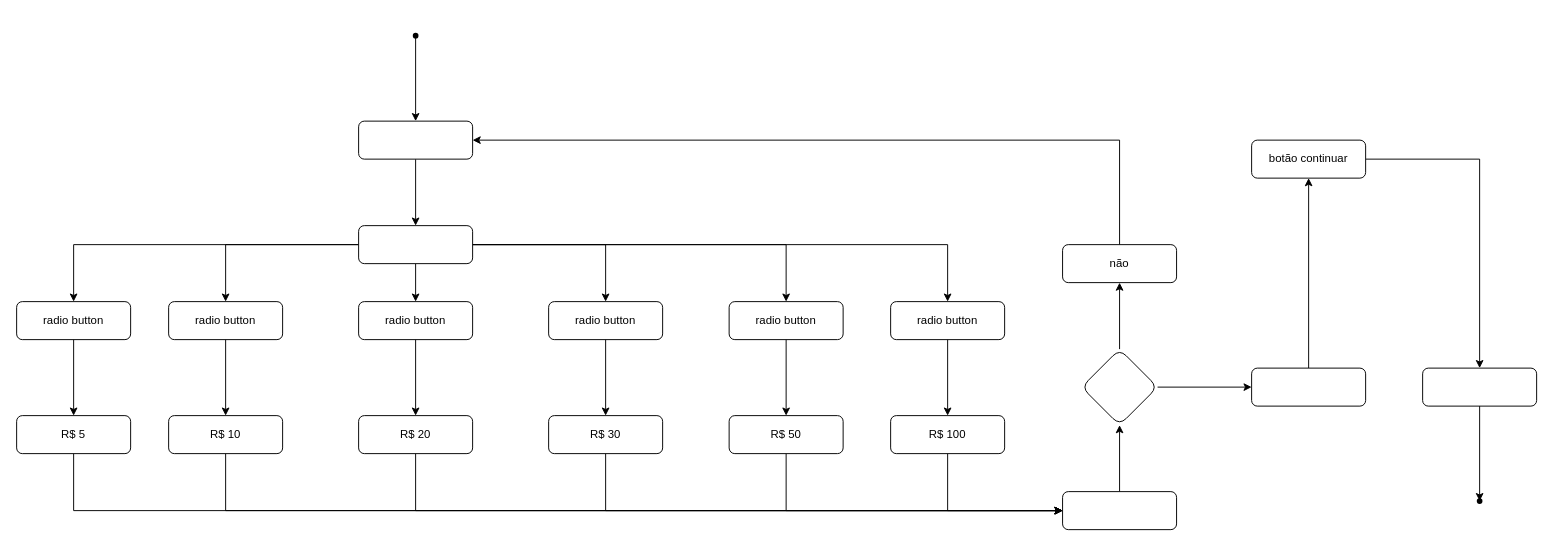
Some shapes in this 1553 by 546 pixel diagram are drawn without their labels. The centre of each missing label's shape, as x and y in pixels:
algum valor selecionado: point 1119,386
guarada valor selecionado: point 1119,510
lista de valores: point 415,244
página doação instituições: point 1479,386
página doação valores: point 415,139
sim: point 1308,386
